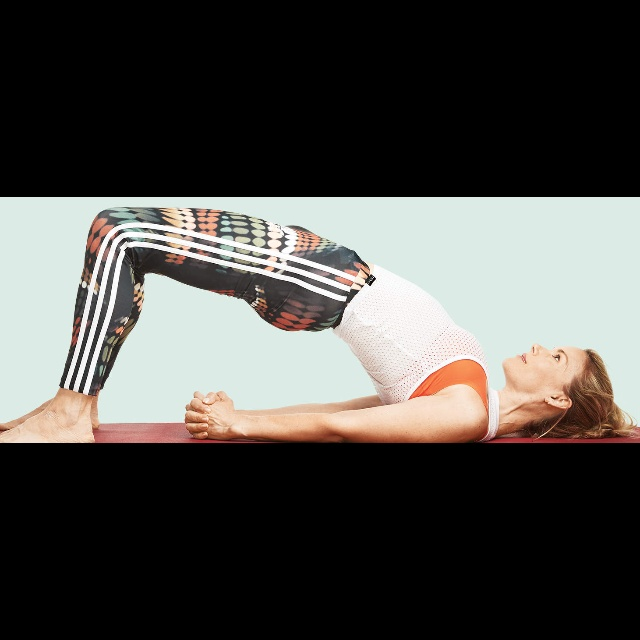Bridge_Pose: (1, 201, 636, 443)
